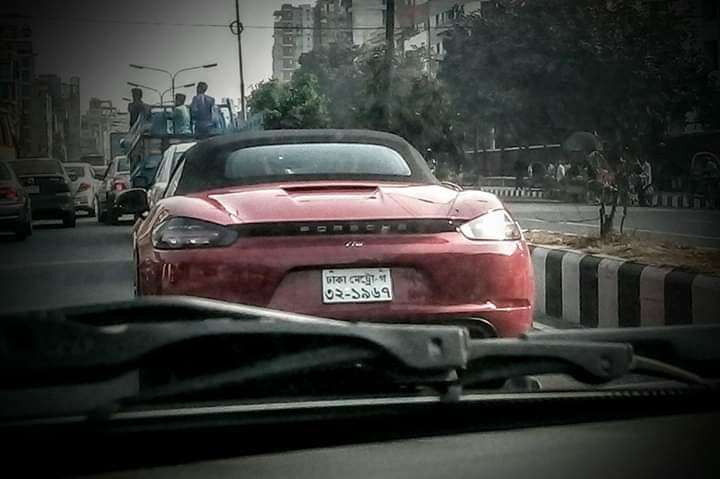registration_plate: (321, 266, 393, 304)
